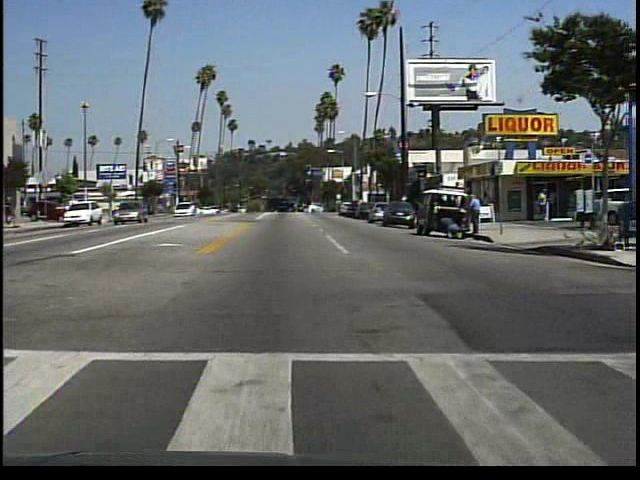person: (468, 190, 488, 238), (536, 186, 551, 226), (440, 214, 461, 240), (547, 187, 559, 218), (5, 194, 16, 225)
